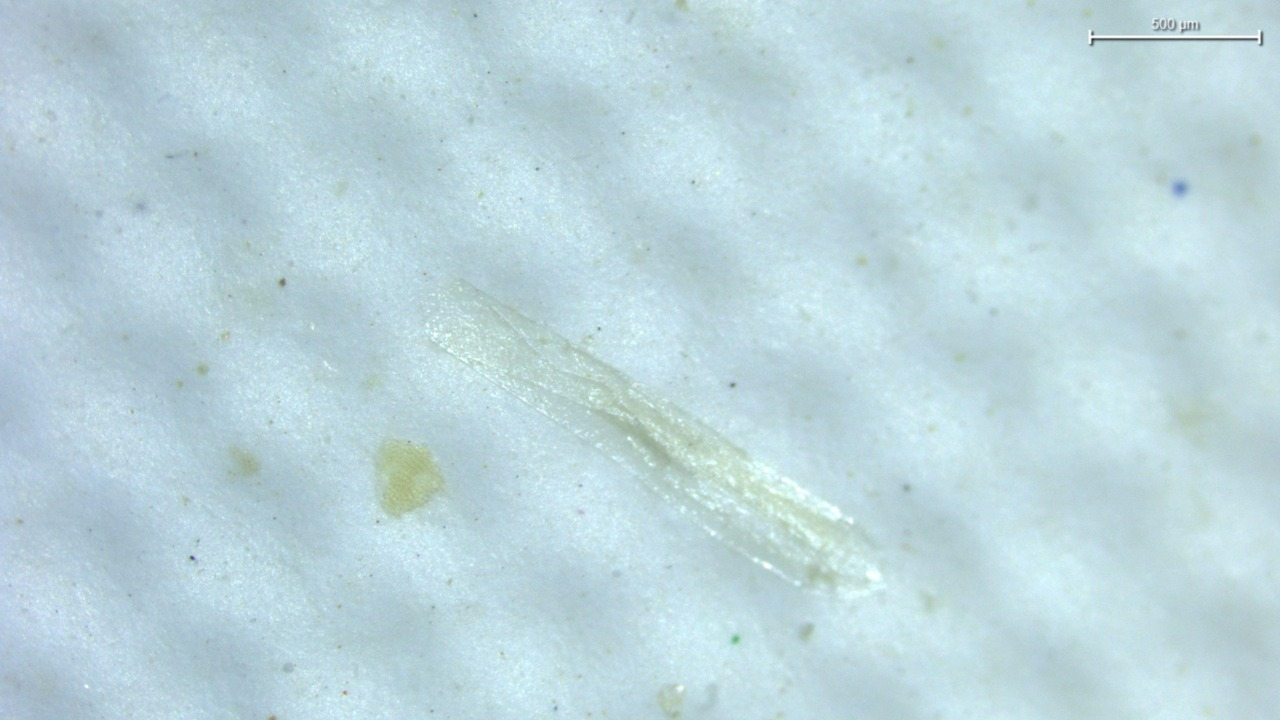microplastic_fragment: (426, 282, 883, 597), (376, 439, 444, 518)
